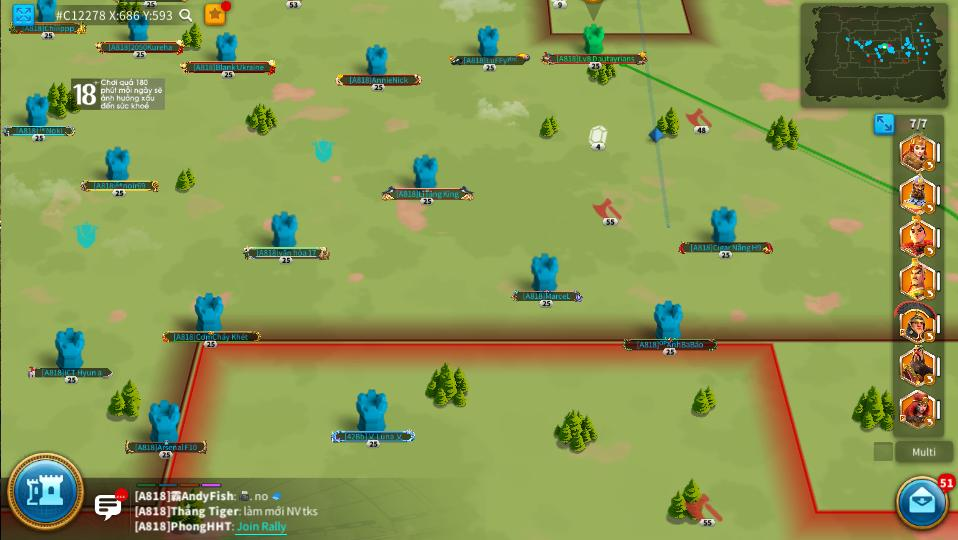gem-z-out: (589, 125, 608, 152)
march_idle: (688, 493, 723, 528), (592, 200, 623, 226), (688, 108, 711, 133)
march_returning: (924, 288, 935, 300), (924, 374, 936, 385), (924, 160, 935, 171), (924, 202, 935, 213), (925, 245, 935, 256), (925, 332, 935, 342), (925, 417, 935, 427)
